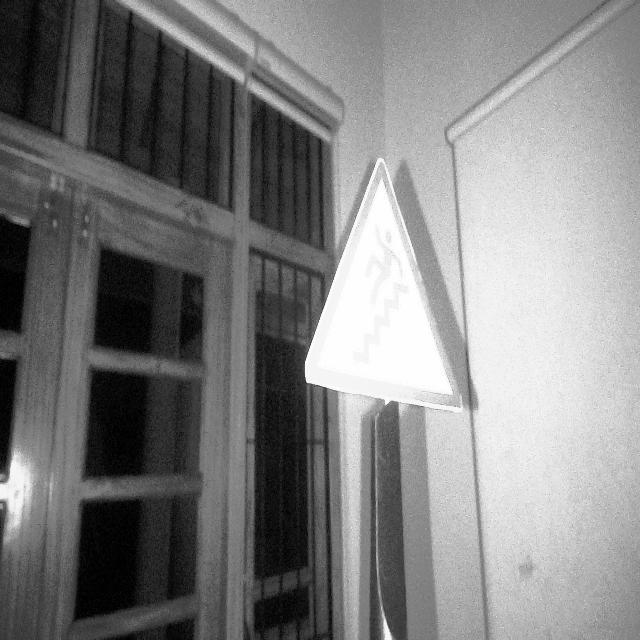Sign: (303, 155, 464, 415)
